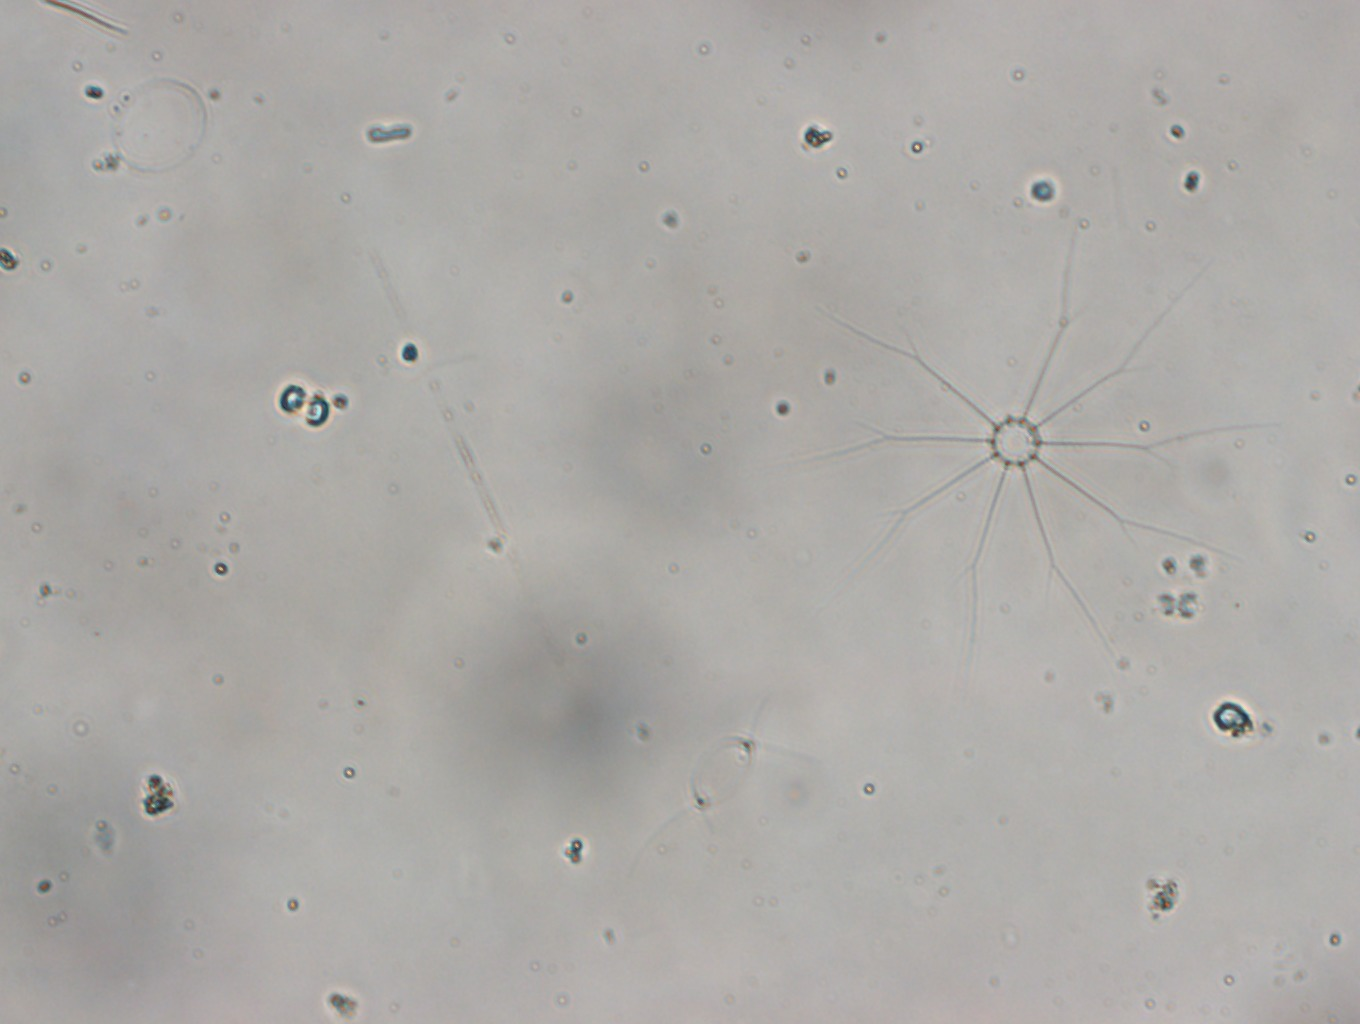bacteriastrum: (817, 222, 1266, 681)
